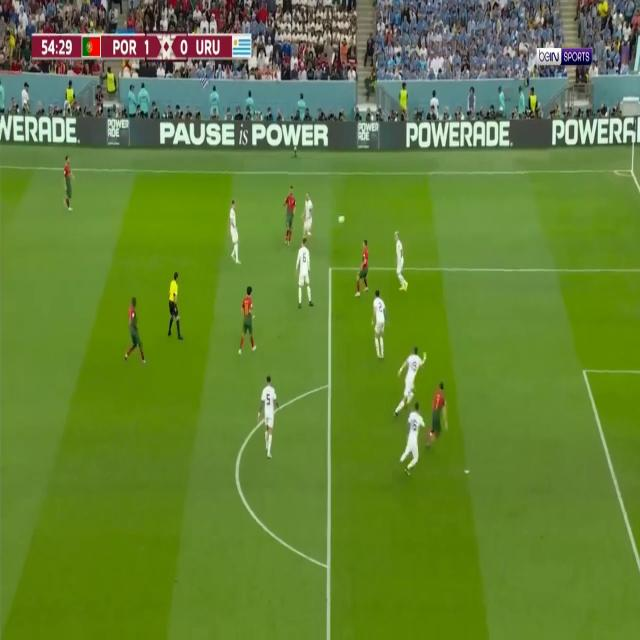Ball: (338, 213, 345, 225)
Referee: (167, 268, 184, 346)
TEAM 1: (233, 283, 267, 357), (124, 296, 147, 363), (430, 381, 450, 444), (282, 186, 297, 246), (355, 238, 369, 298), (64, 156, 76, 212)
TEAM 2: (251, 367, 283, 464), (393, 346, 427, 419), (400, 402, 426, 476), (296, 237, 314, 309), (371, 288, 387, 361), (228, 199, 244, 265), (394, 231, 409, 291), (301, 192, 314, 237)
